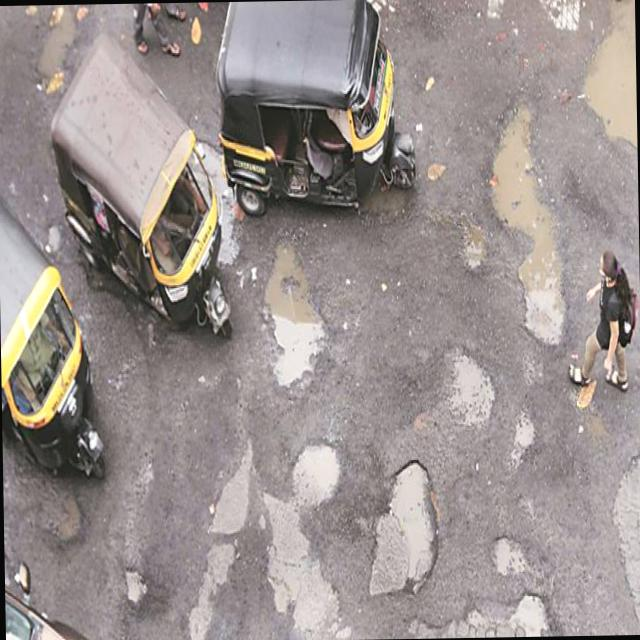bad-road: (488, 96, 572, 347), (262, 437, 345, 640), (260, 232, 332, 388), (365, 456, 441, 598), (580, 22, 637, 162), (406, 595, 563, 638), (195, 132, 242, 265), (610, 446, 640, 635), (187, 538, 239, 640), (207, 435, 254, 536), (448, 348, 498, 424), (458, 207, 486, 272), (489, 533, 528, 576), (535, 0, 580, 30), (512, 410, 536, 460), (124, 566, 150, 603), (13, 560, 33, 593), (576, 380, 598, 408), (46, 222, 61, 252)
